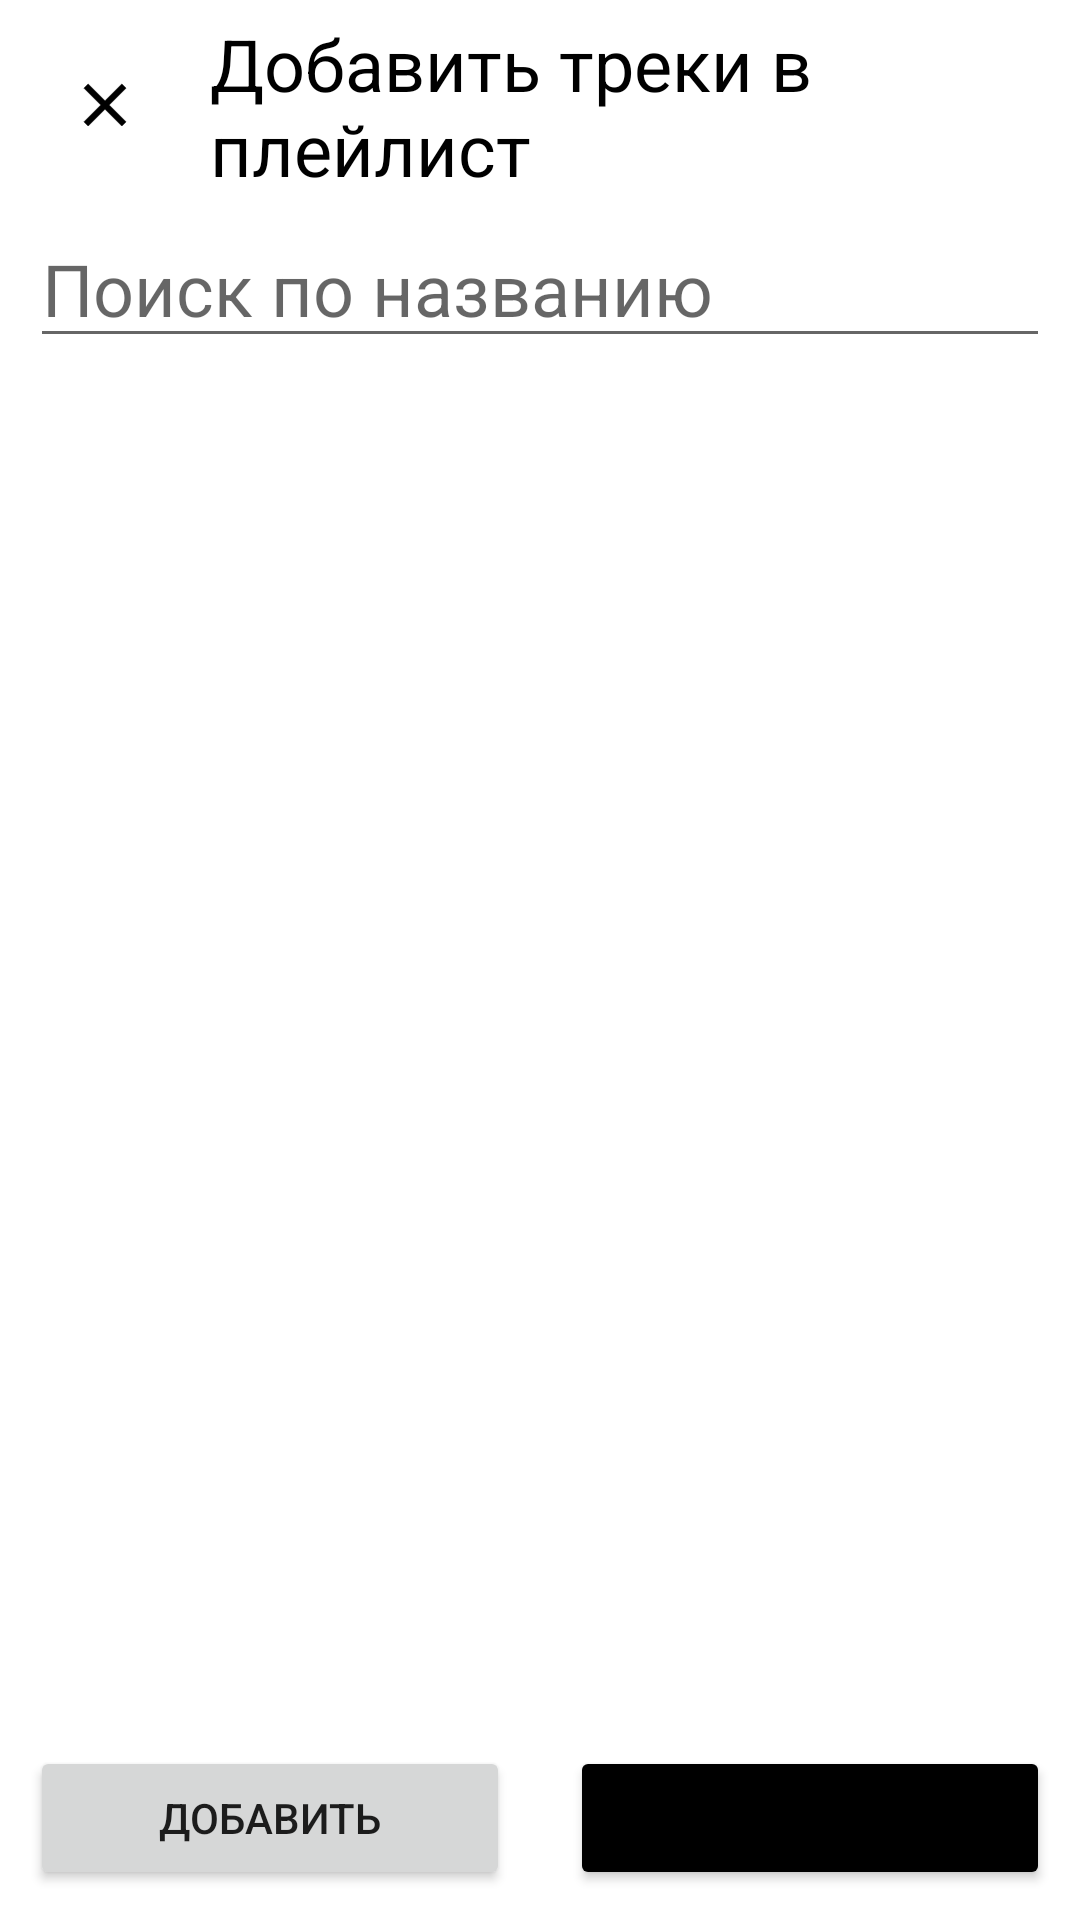

Where to tap for icons on this 1080px x 1920px app screen, as (x=x, y=y):
Close Button: (x=105, y=104)
